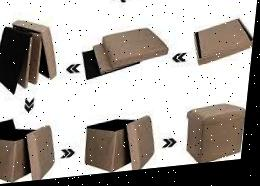cube: (187, 107, 250, 170)
